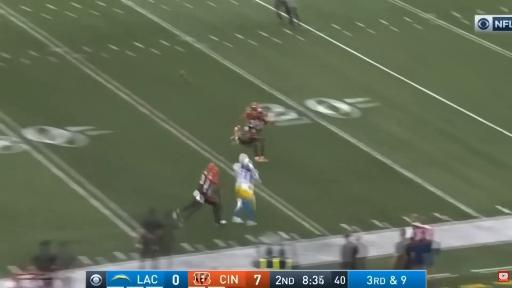Helmet: (206, 162, 219, 183), (239, 154, 248, 163), (250, 103, 260, 111)
Jersey: (234, 164, 259, 198), (194, 171, 216, 203), (245, 109, 266, 130)
Player: (174, 163, 226, 224), (232, 154, 259, 225), (231, 126, 267, 162), (243, 103, 271, 134)
